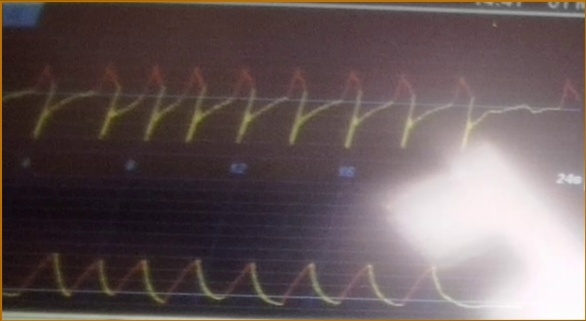Ineffective_effort Flow: (6, 58, 581, 150)
Ineffective_effort Volume: (5, 239, 509, 311)
